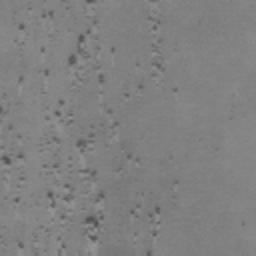Oxide scale of temperature system: (0, 135, 133, 256), (17, 9, 106, 84), (137, 10, 166, 91), (14, 237, 25, 249), (154, 204, 162, 214)
